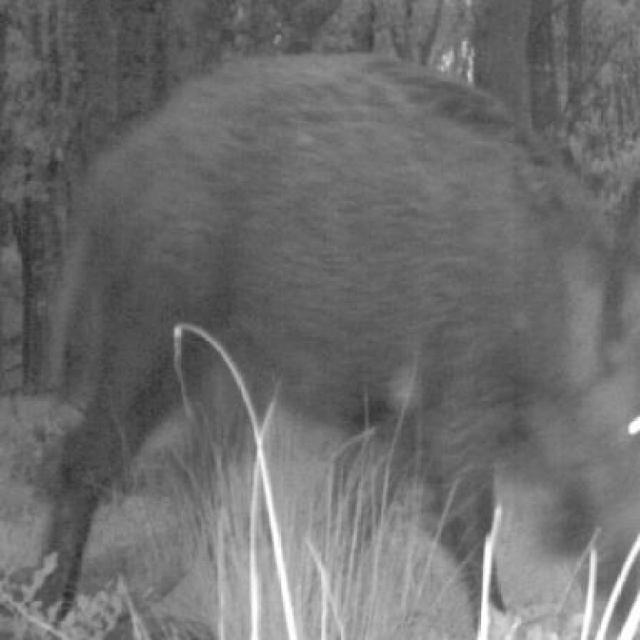Boar: (29, 32, 638, 586)
